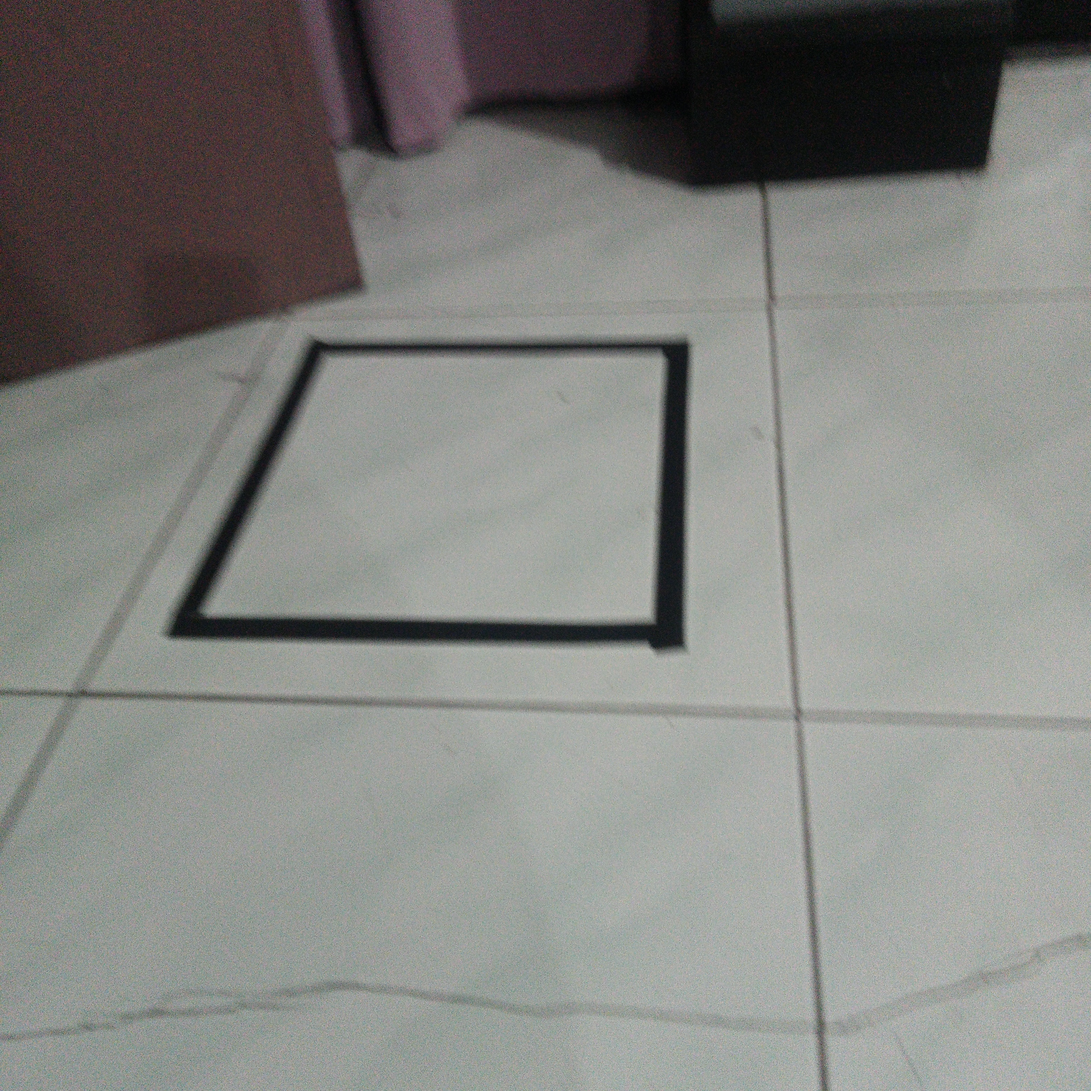parking_area: (0, 950, 202, 1090)
